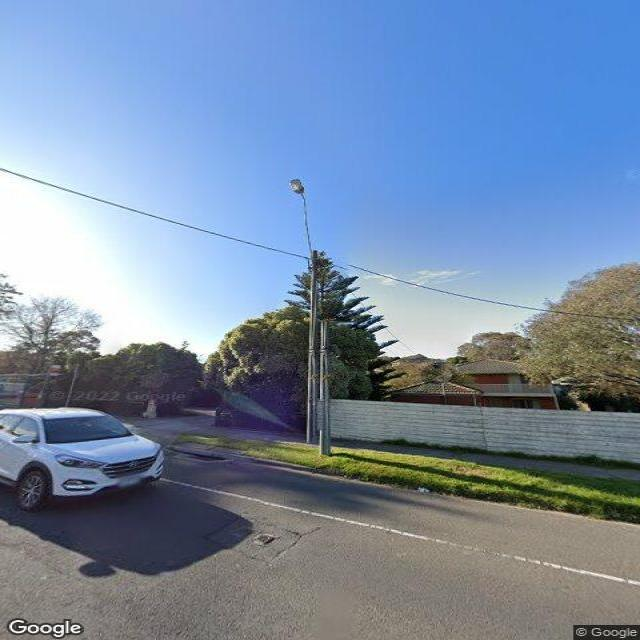streetlight: (287, 178, 316, 269)
timber-pole: (305, 249, 331, 456)
